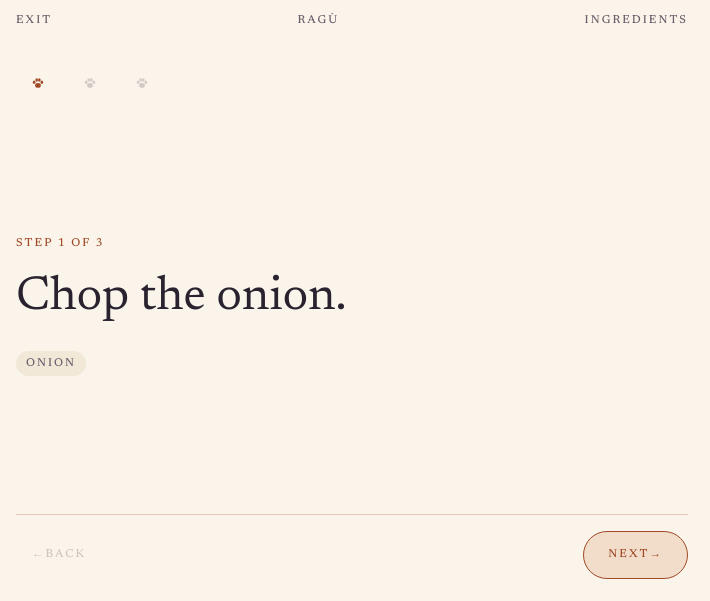
Test: CookMode › surfaces a step's ingredients and a tappable timer
Expected: the text "onion" is shown, [16,351,86,376]
Note: advance to the step with "20 minutes" → a timer button appears
Click the button "Next →" at x=636, y=555, box [583,531,688,579]
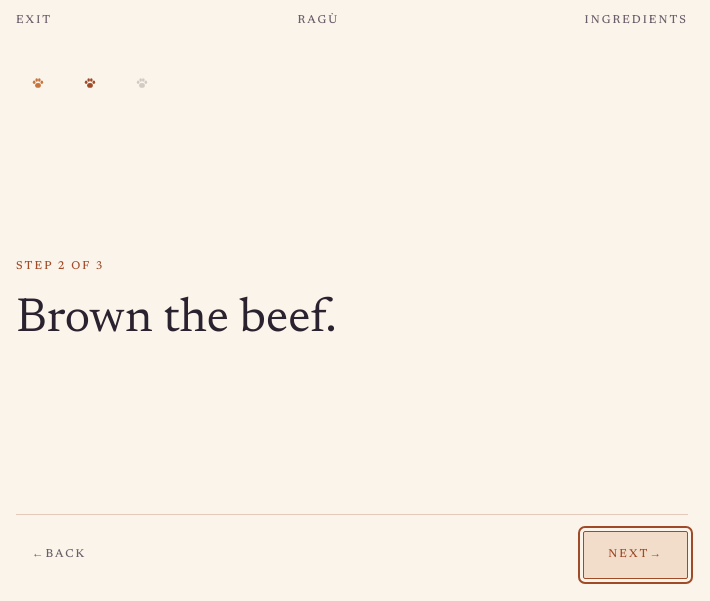
Click the button "Next →" at x=636, y=555, box [583,531,688,579]
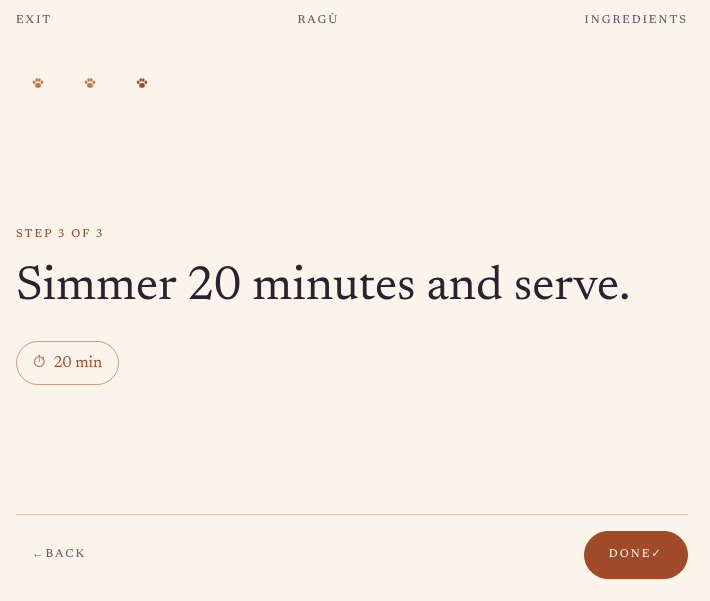
Expected: the button with aria-label "Start 20 min timer" is shown, [16,341,119,385]
